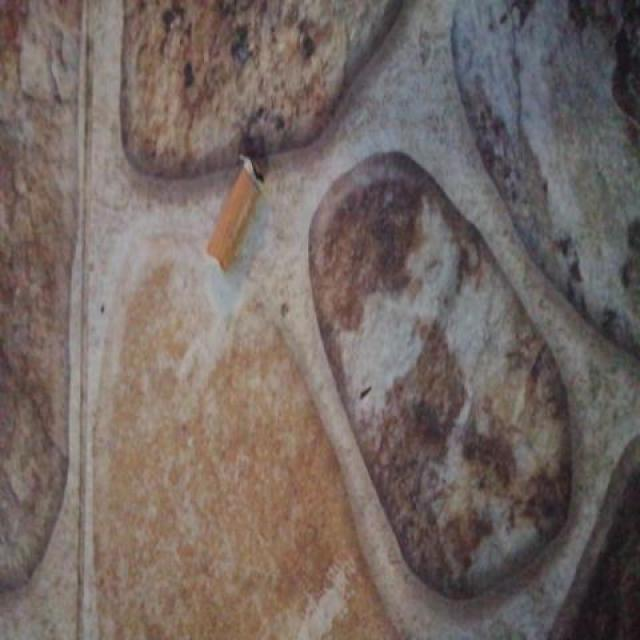non-organic waste: (200, 151, 268, 276)
